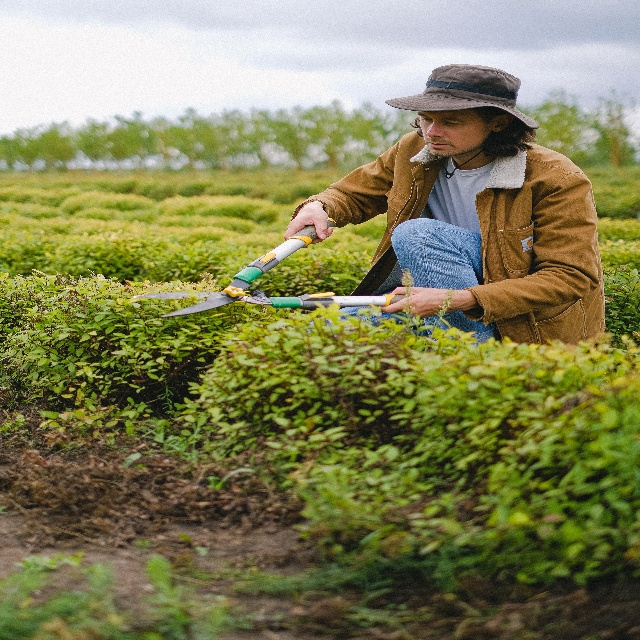Sin_guantes: (379, 285, 452, 318), (283, 200, 335, 244)
